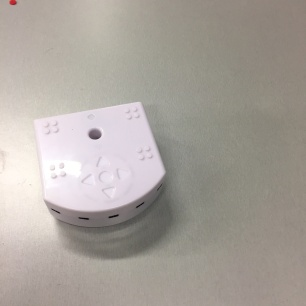thymio: (26, 96, 172, 234)
